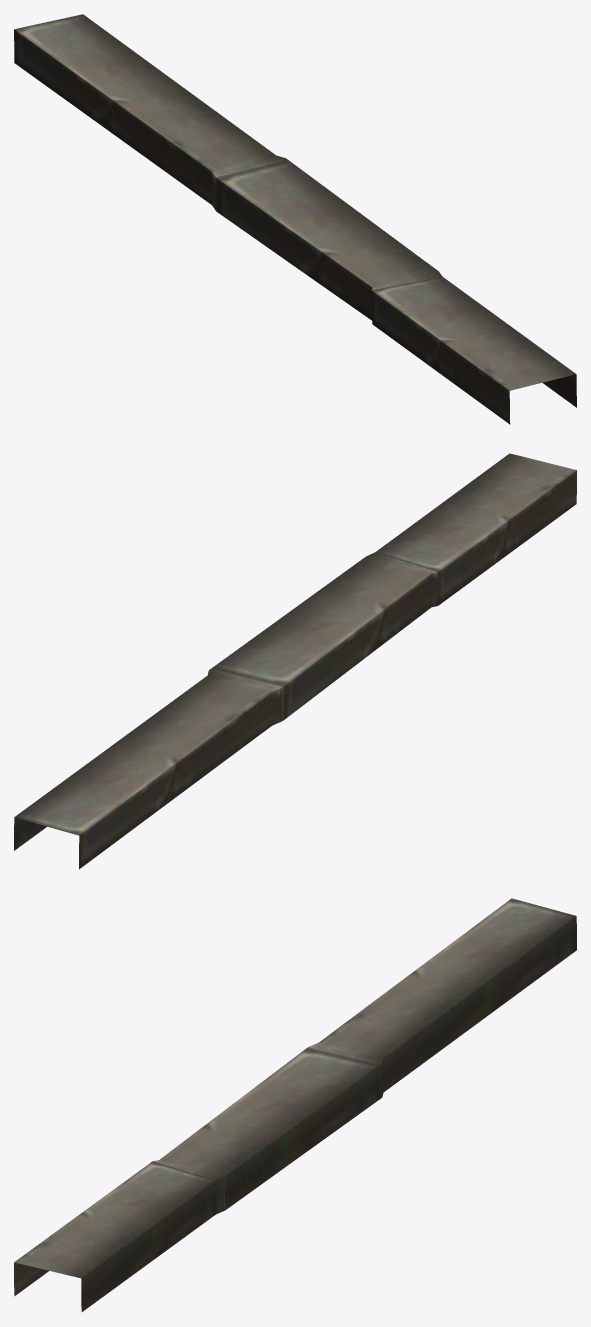
File: h5_dizhuan_a.FBX
3 views of the same model, one above another, from view 1: azimuth 30°, elevation 25°; view 2: azimuth 150°, elevation 25°; view 3: azimuth 330°, elevation 25° (orthographic).
Parts seen in each view (by area): view 1: h5_dizhuan_a; view 2: h5_dizhuan_a; view 3: h5_dizhuan_a.
Boxes of the visible parts, x1,y1,x2,y2 form: h5_dizhuan_a: (14, 14, 576, 424); h5_dizhuan_a: (14, 453, 576, 869); h5_dizhuan_a: (14, 898, 576, 1311).
Bounding box in the file's own units: 0.6988 × 0.3245 × 8.27.
